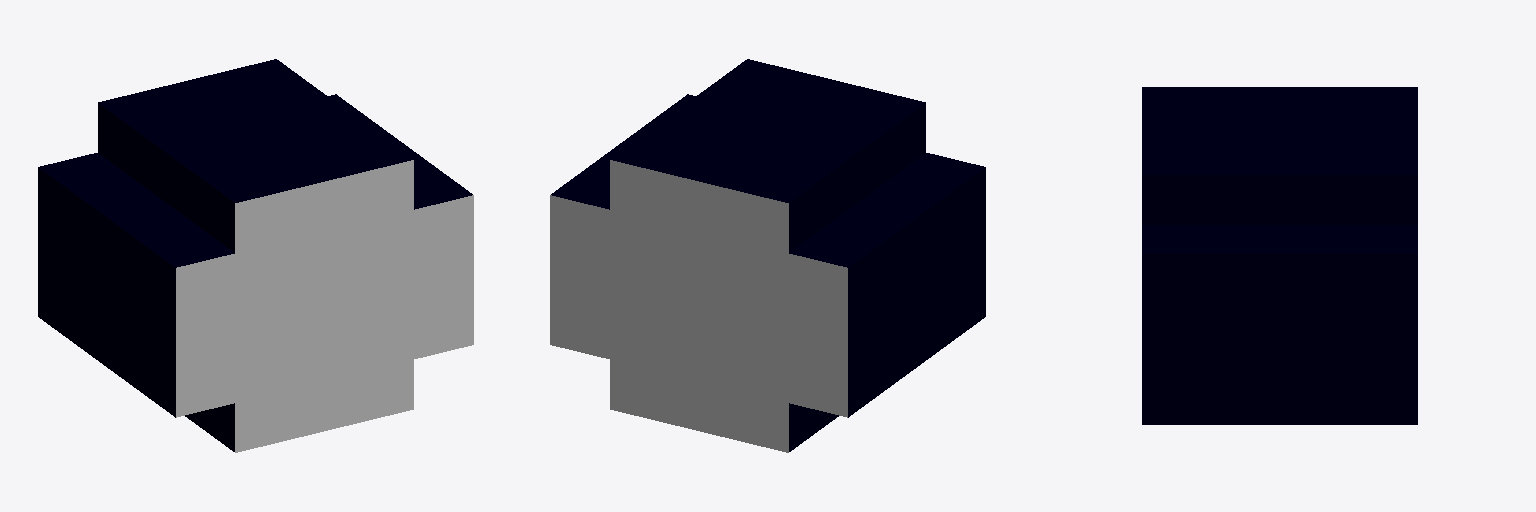
Rendered from EnemyBullet.obj.
The picture shows the model from 3 angles: view 1: azimuth 30°, elevation 25°; view 2: azimuth 150°, elevation 25°; view 3: azimuth 270°, elevation 25°; orthographic projection.
Parts seen in each view (by area): view 1: bullet Bullet; view 2: bullet Bullet; view 3: bullet Bullet.
Part boxes in pixels (left/top/right/bottom): bullet Bullet: left=38, top=59, right=473, bottom=452; bullet Bullet: left=550, top=59, right=985, bottom=452; bullet Bullet: left=1142, top=87, right=1417, bottom=424.
Bounding box in the file's own units: 0.5 × 0.4 × 0.4.